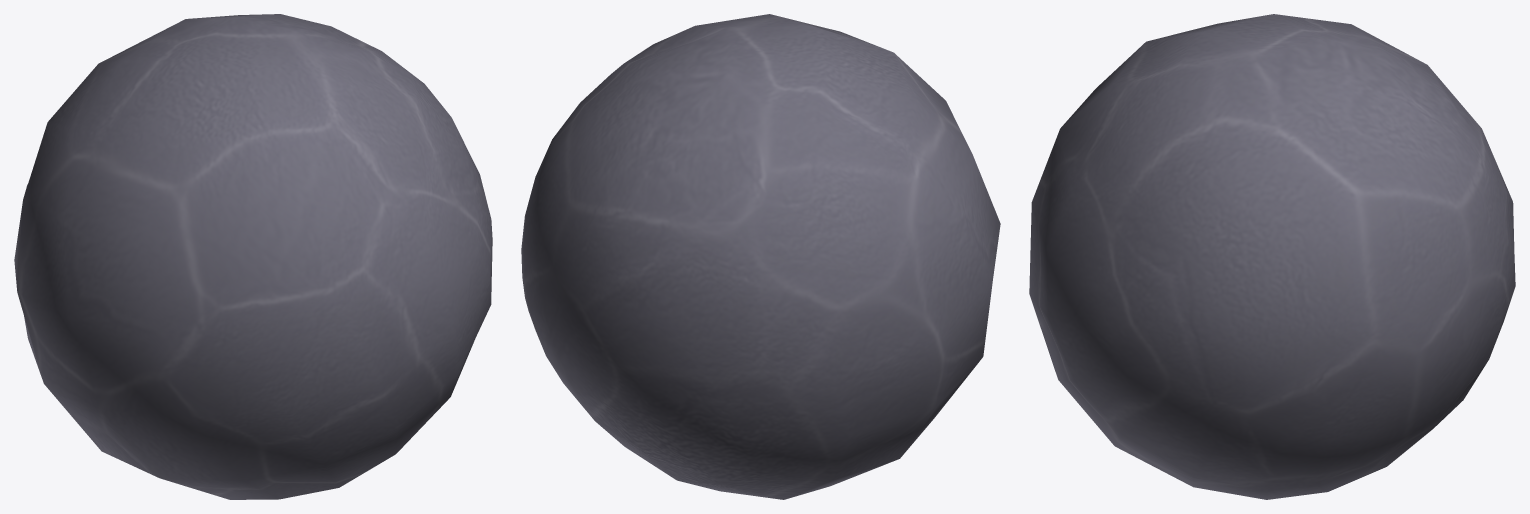
Rendered from StoneBall.FBX.
3 renders of one model, left to right at view 1: azimuth 30°, elevation 25°; view 2: azimuth 150°, elevation 25°; view 3: azimuth 270°, elevation 25°, orthographic.
Visible parts, largest first — view 1: StoneBall; view 2: StoneBall; view 3: StoneBall.
Boxes of the visible parts, x1,y1,x2,y2 form: StoneBall: [14, 14, 492, 499]; StoneBall: [521, 14, 1000, 499]; StoneBall: [1029, 14, 1515, 499].
Size of the model in its own units: 87.98 by 88.84 by 88.16.
